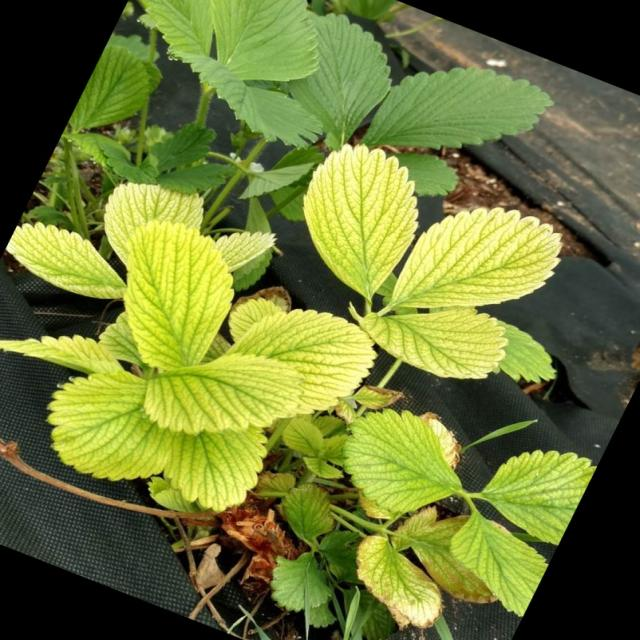Chlorosis: (29, 78, 565, 586)
